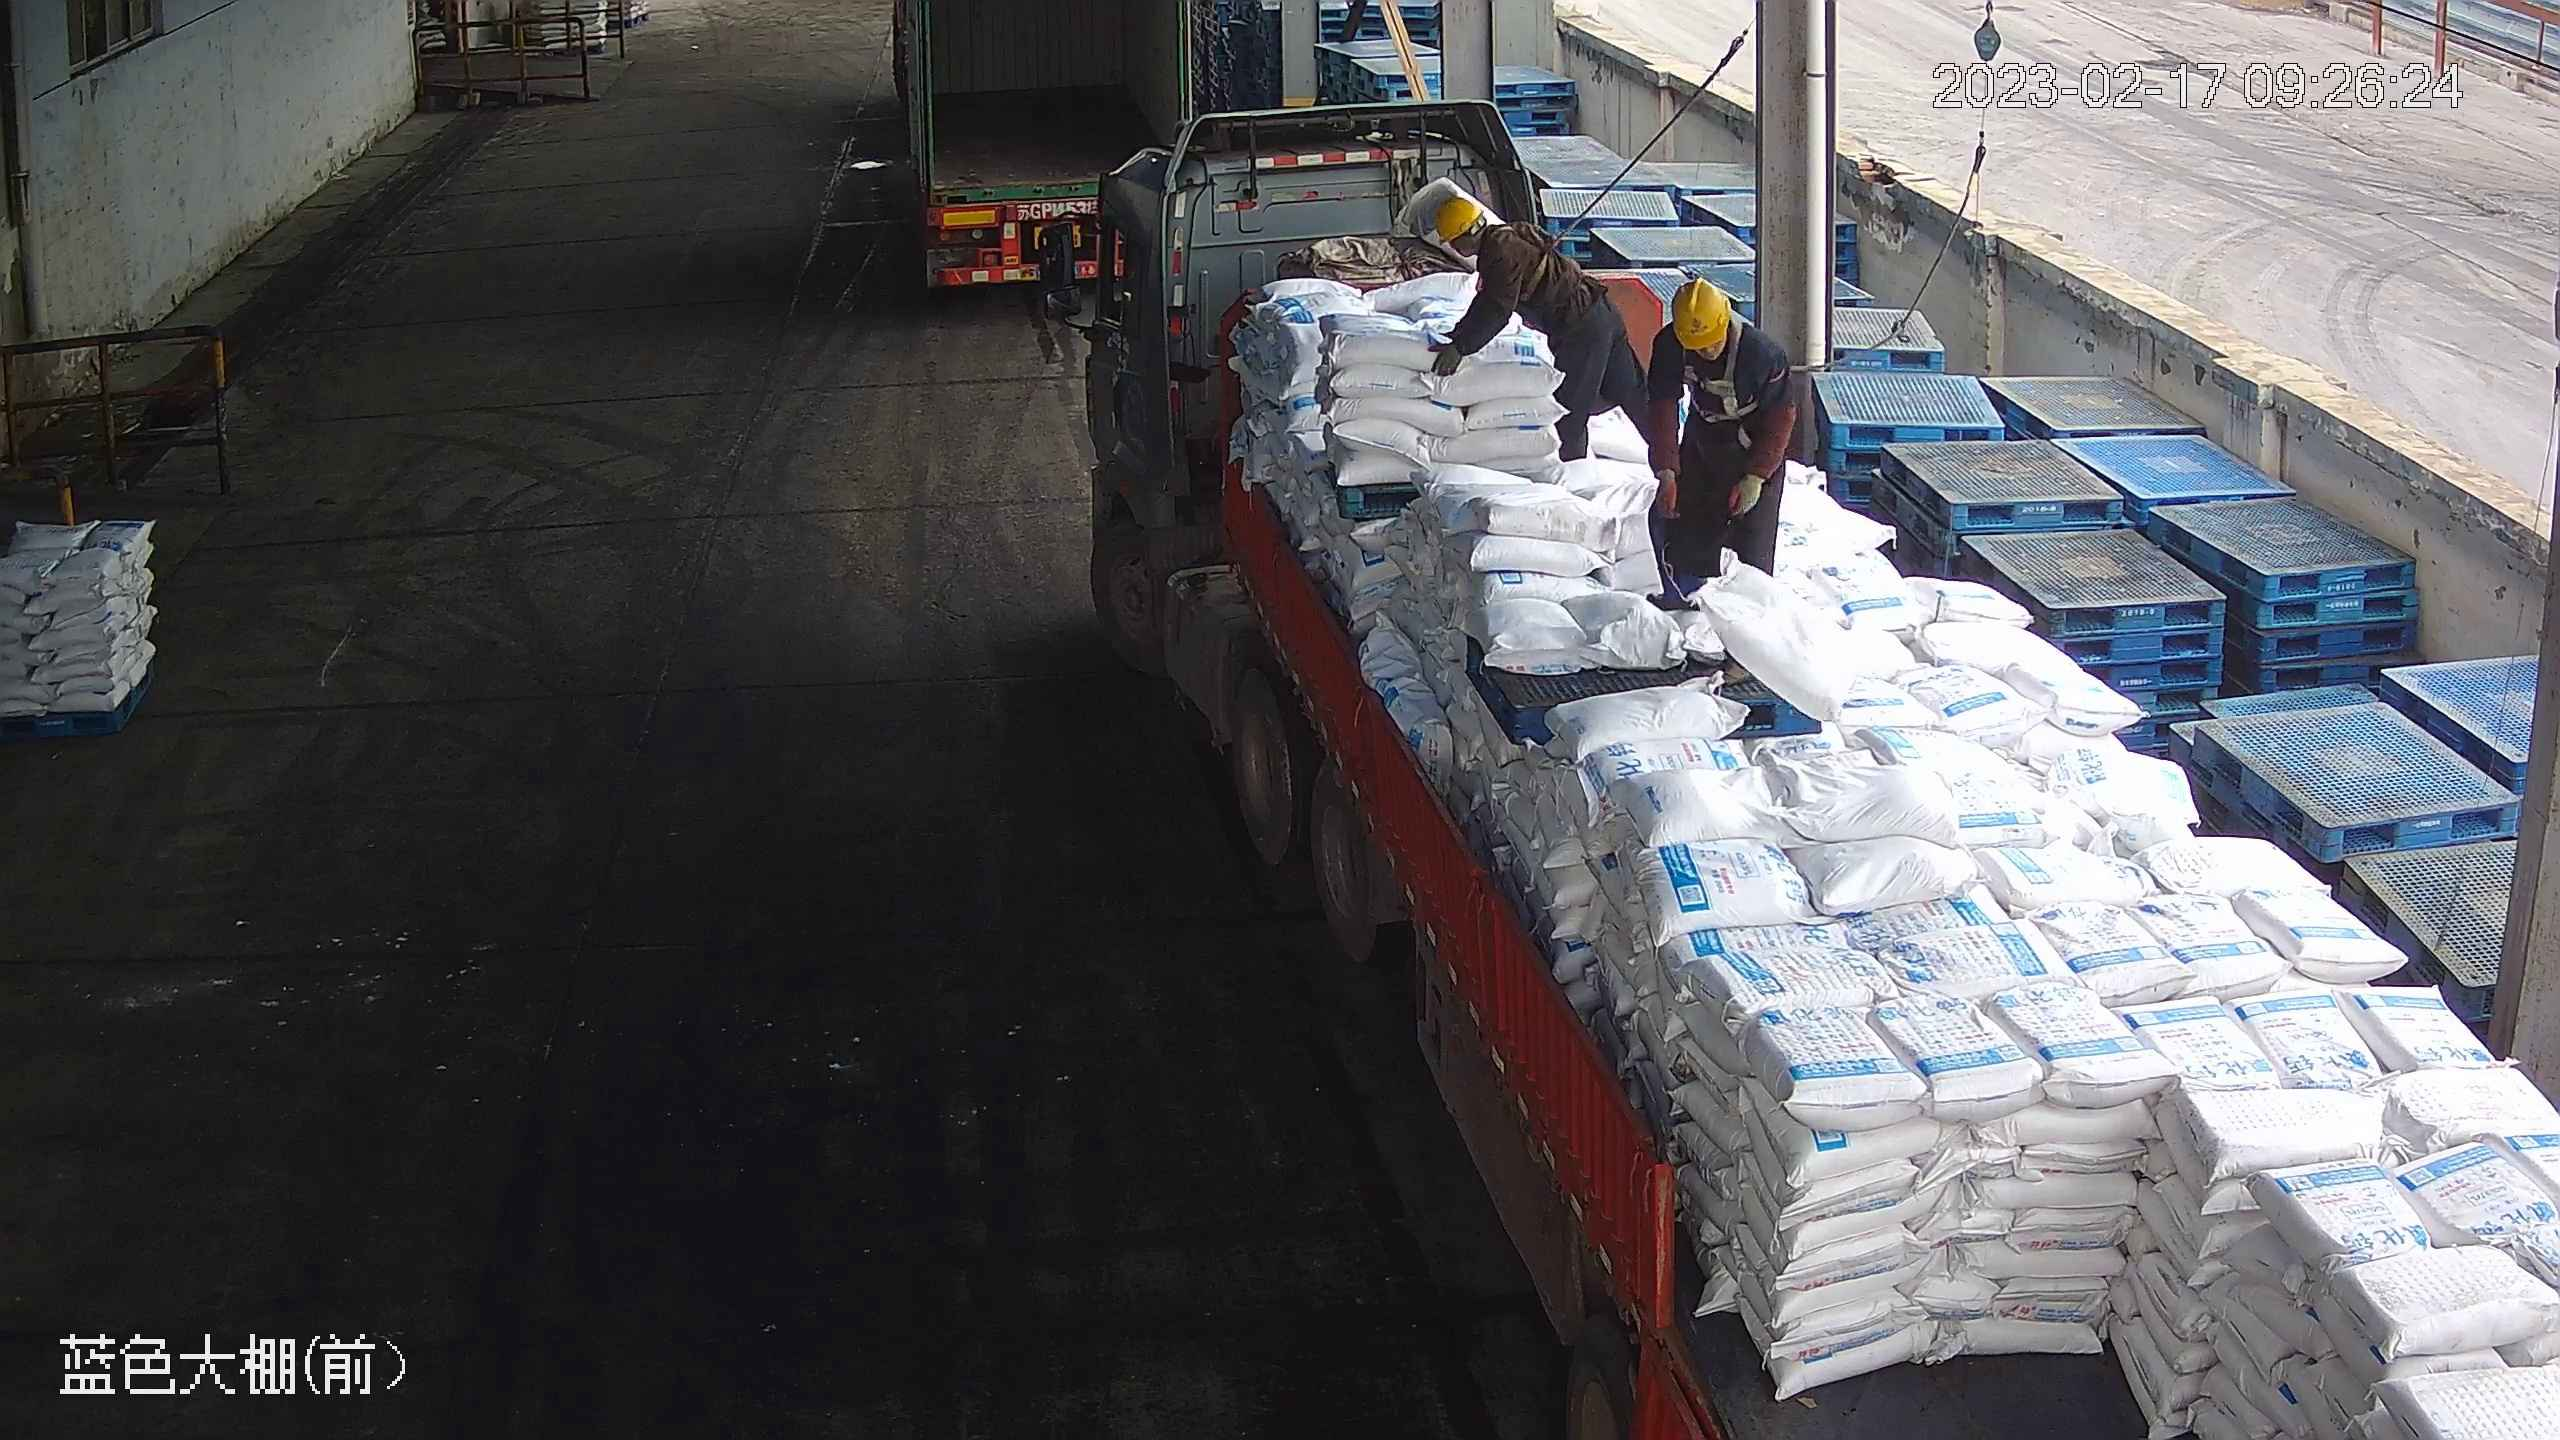belt: (1486, 214, 1569, 300), (1682, 340, 1756, 419)
head: (1658, 276, 1789, 387), (1430, 192, 1537, 286)
helmet: (1669, 277, 1733, 349), (1430, 193, 1482, 243)
people: (1420, 190, 1637, 474), (1643, 277, 1804, 615)
truck: (1039, 88, 2553, 1440), (884, 1, 1198, 306)
